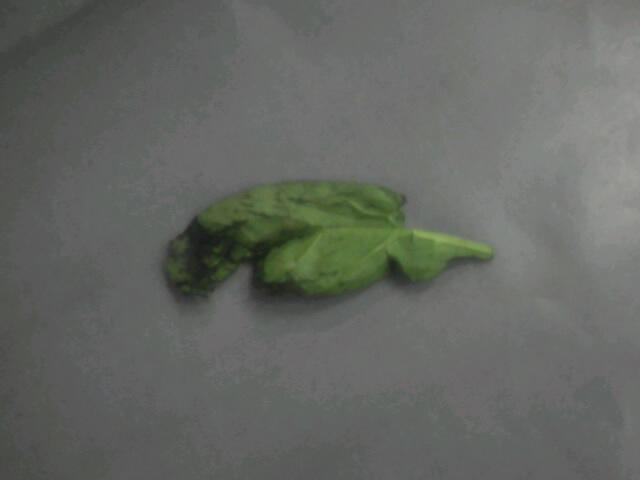yellow: (141, 171, 510, 318)
